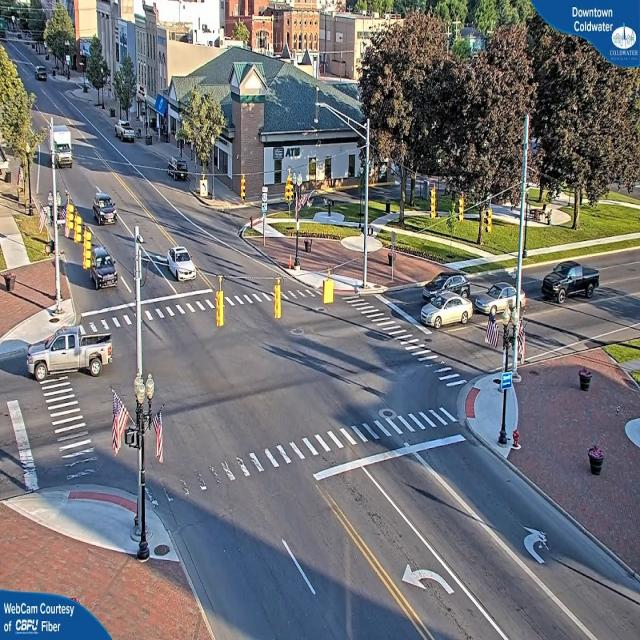car: (24, 326, 114, 379), (542, 262, 601, 300), (474, 281, 526, 317), (421, 294, 472, 330), (90, 252, 118, 288), (166, 248, 196, 281), (93, 191, 117, 225), (439, 272, 469, 294), (116, 123, 136, 143)
truck: (47, 123, 76, 169)
